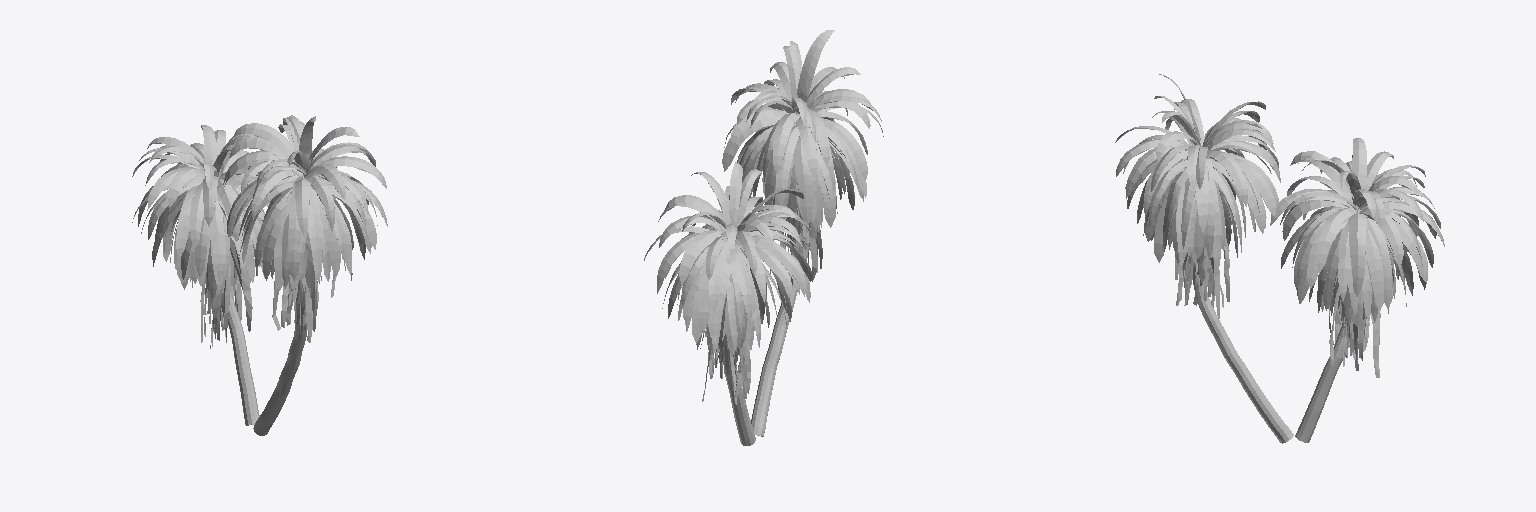
The model's file is palm2.obj.
3 renders of one model, left to right at view 1: azimuth 30°, elevation 25°; view 2: azimuth 150°, elevation 25°; view 3: azimuth 270°, elevation 25°, orthographic.
Visible parts, largest first — view 1: Bark_Diffuse; view 2: Bark_Diffuse; view 3: Bark_Diffuse.
Boxes of the visible parts, box(x1,y1,x2,y2) form: Bark_Diffuse: box(132, 115, 387, 435); Bark_Diffuse: box(644, 30, 883, 445); Bark_Diffuse: box(1115, 74, 1444, 443).
Bounding box in the file's own units: 5.96 × 13.44 × 11.08.